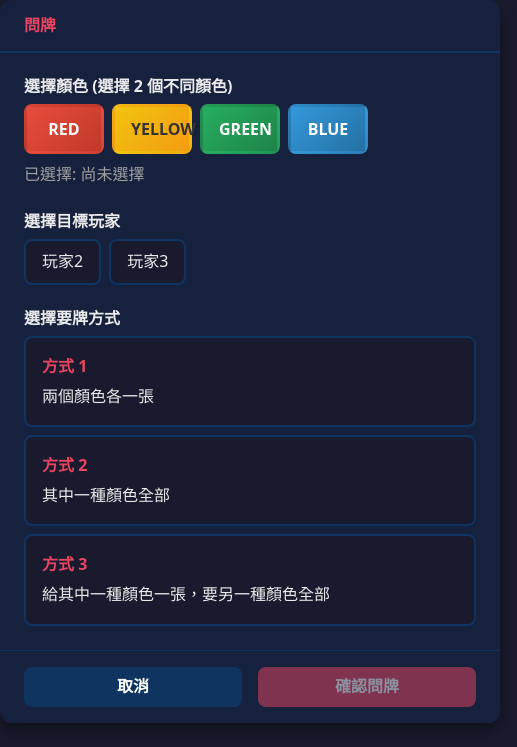
QuestionCard - 工作單 0019 › 表單驗證 › 完成所有選擇後確認按鈕應啟用
The image size is (517, 747).
Step 1. Click the button "red" → (64, 129), box [24, 104, 104, 154]
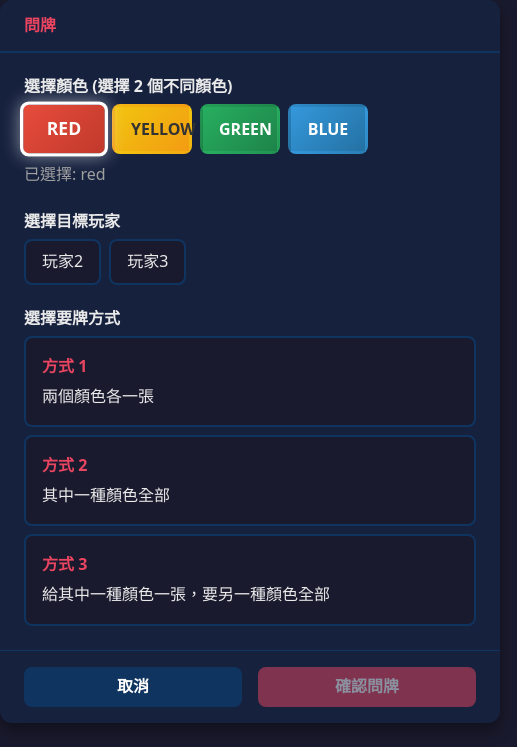
Step 2. Click the button "blue" → (328, 129), box [288, 104, 368, 154]
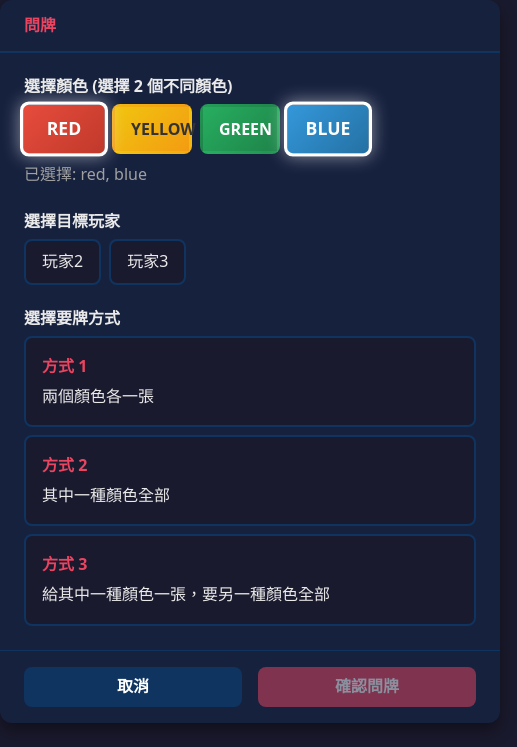
Step 3. Click the button "玩家2" → (63, 262), box [24, 239, 101, 285]
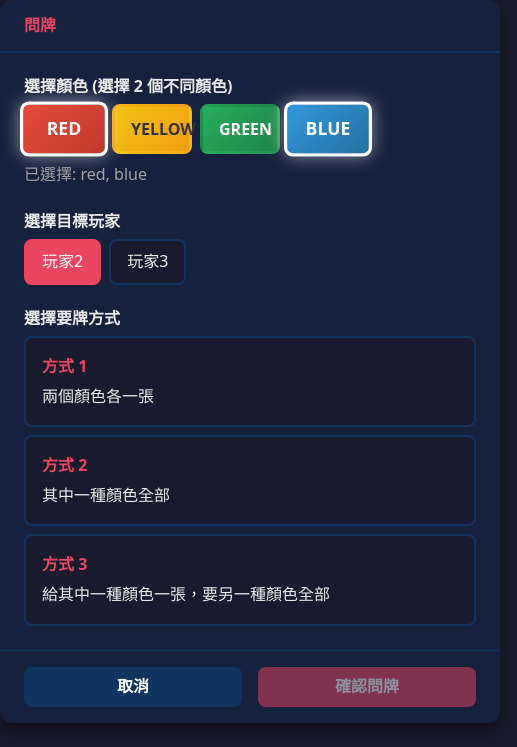
Step 4. Click the text "兩個顏色各一張" → (98, 396), box [42, 384, 154, 409]
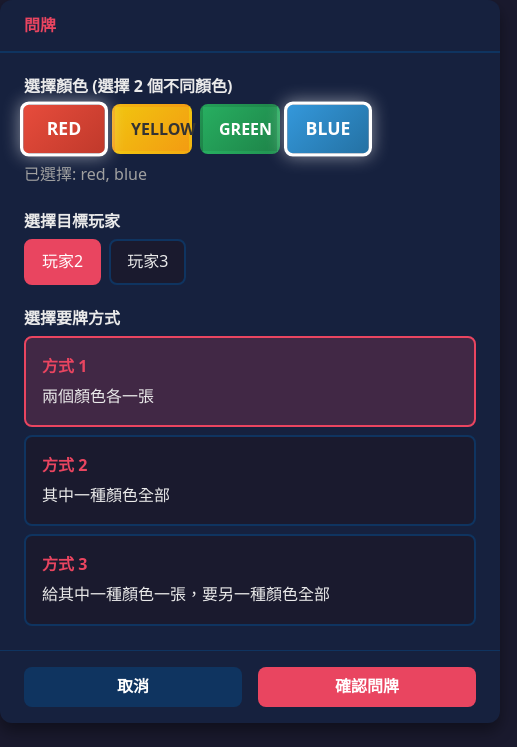
Result: the button "確認問牌" is enabled at [258, 666, 476, 706]
